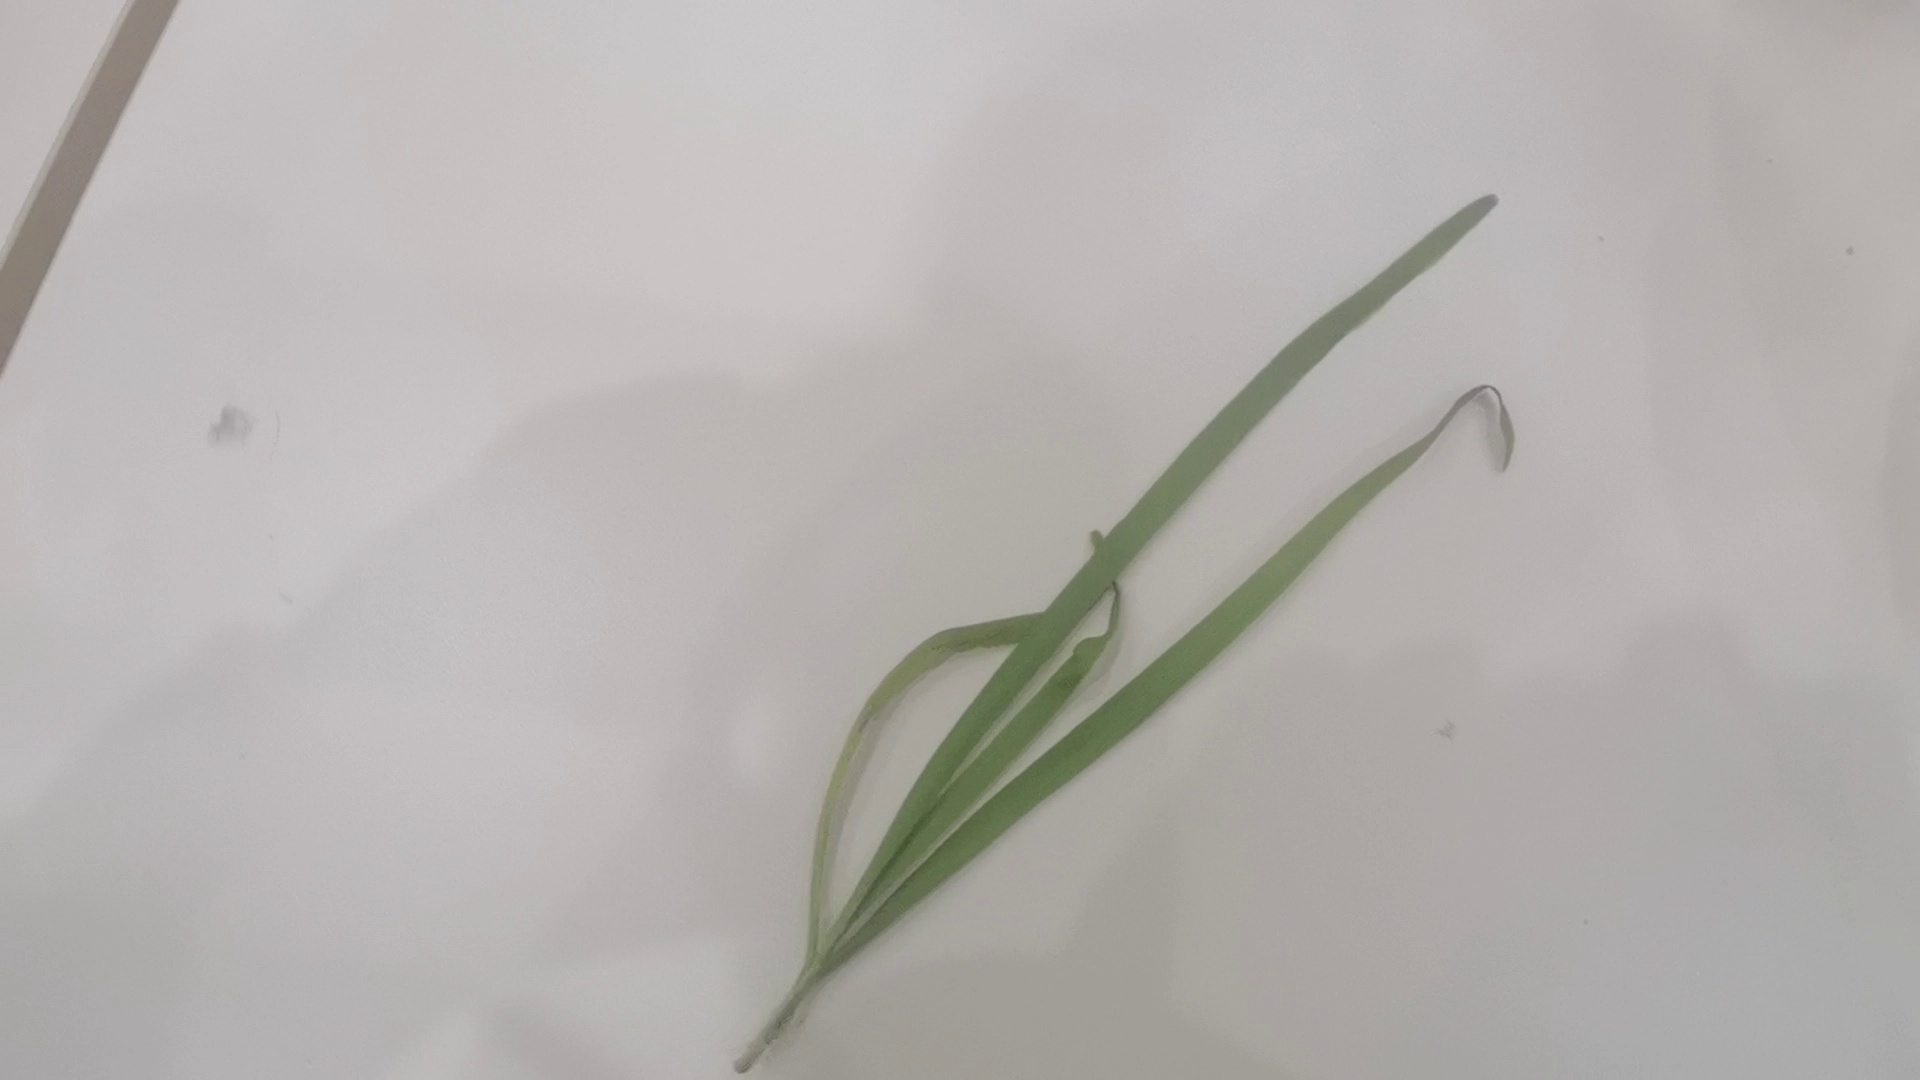chives: (735, 194, 1516, 1080)
